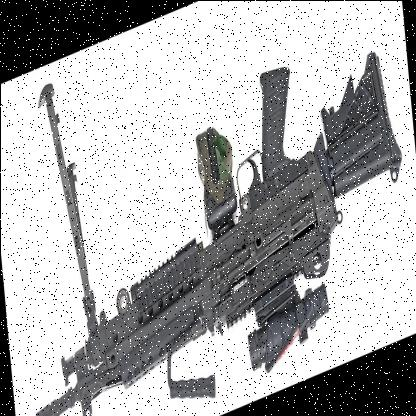rifle: (12, 16, 416, 416)
